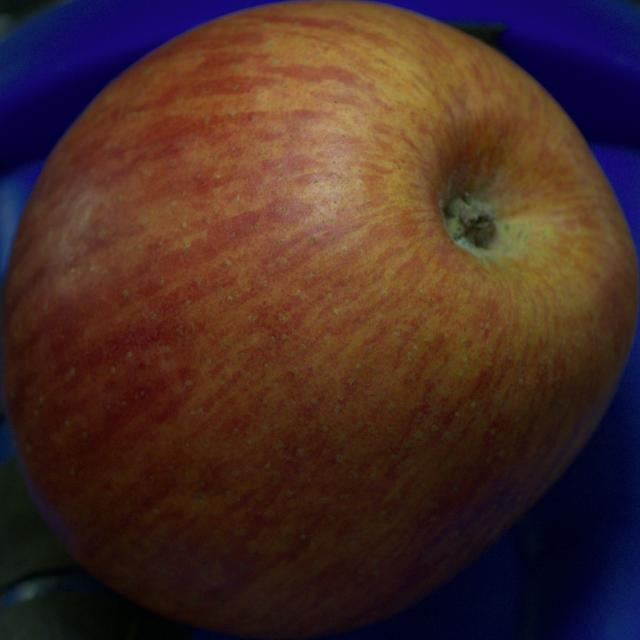apple: (1, 0, 639, 638)
